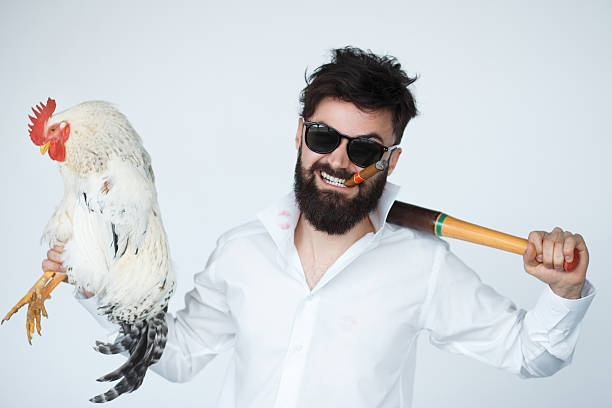bita: (390, 198, 579, 267)
